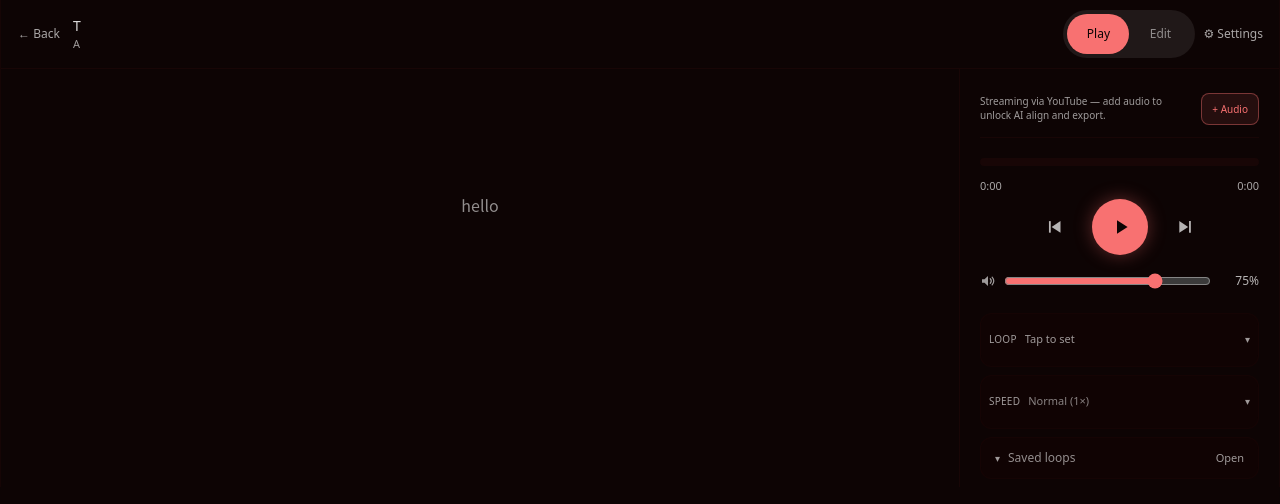
PlayerView local audio gating › does not offer Auto-align for a YouTube-only song with no stored audio
This screenshot has width=1280, height=504.
Expected: the text "hello" is shown, left=461, top=193, right=499, bottom=217
Click the button "Edit". click: {"x": 1160, "y": 34}
box: left=1130, top=14, right=1192, bottom=54
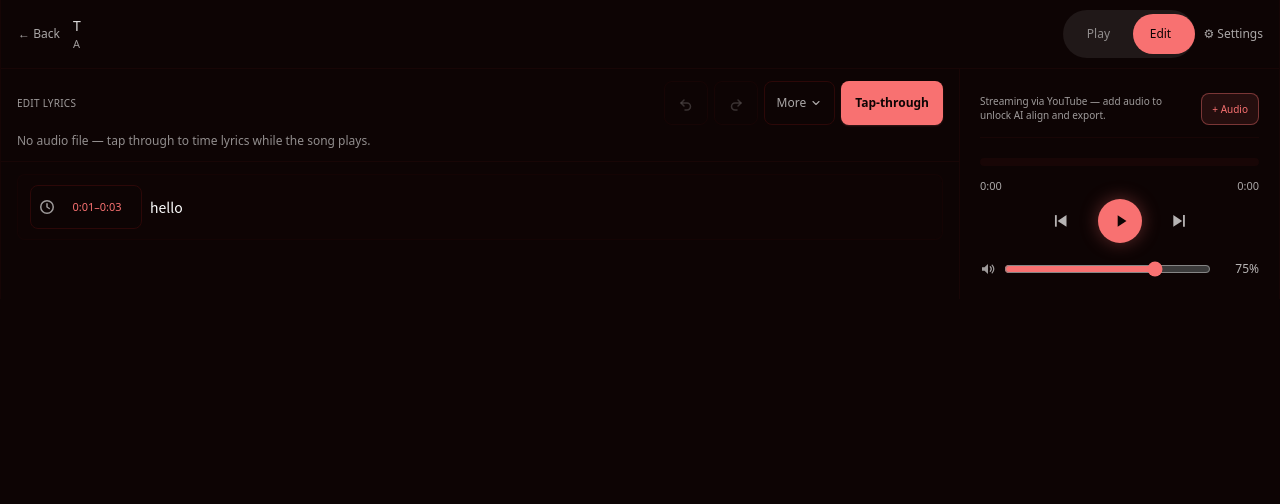
Expected: the button named "edit timestamp" is shown, left=30, top=185, right=142, bottom=229
Expected: the text "tap through to time lyrics" is shown, left=17, top=132, right=370, bottom=149
